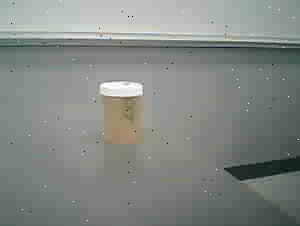Bottle B: (96, 77, 154, 151)
